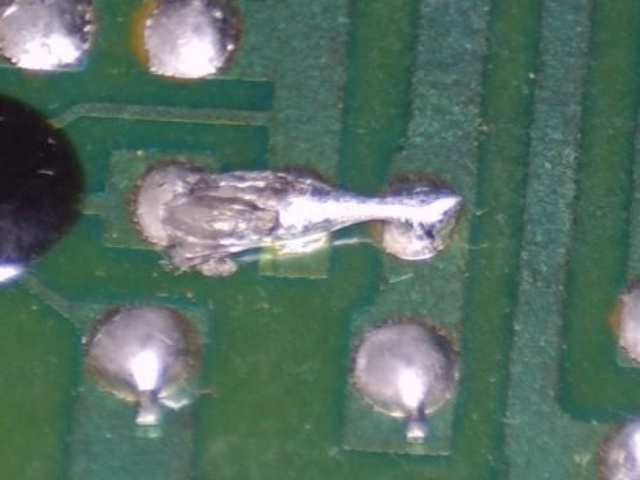pcb_defect: (138, 165, 463, 275)
